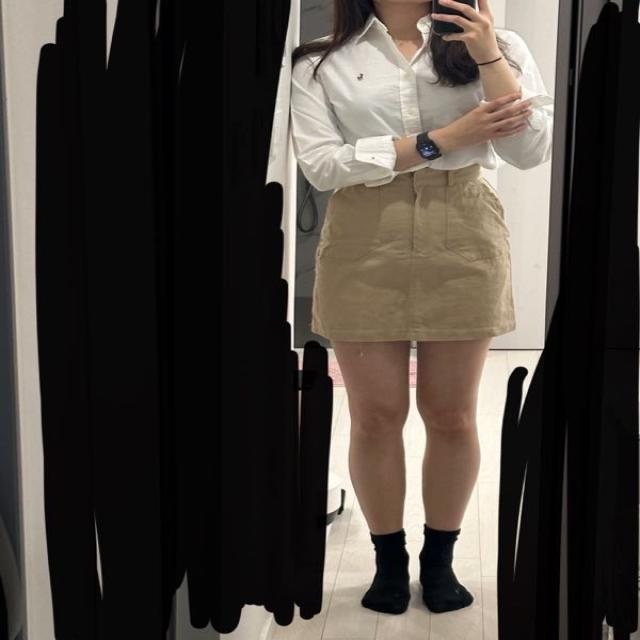shirt: (290, 17, 550, 194)
skirt: (308, 166, 517, 344)
